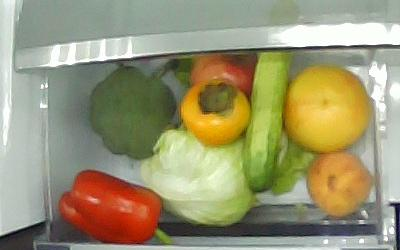apple: (188, 51, 257, 99)
broccoli: (89, 66, 176, 159)
cucumber: (246, 50, 289, 194)
grapefruit: (284, 65, 367, 151)
lettuce: (144, 127, 256, 227)
paprika: (59, 170, 173, 246)
peach: (308, 153, 373, 217)
persimmon: (180, 79, 250, 147)
